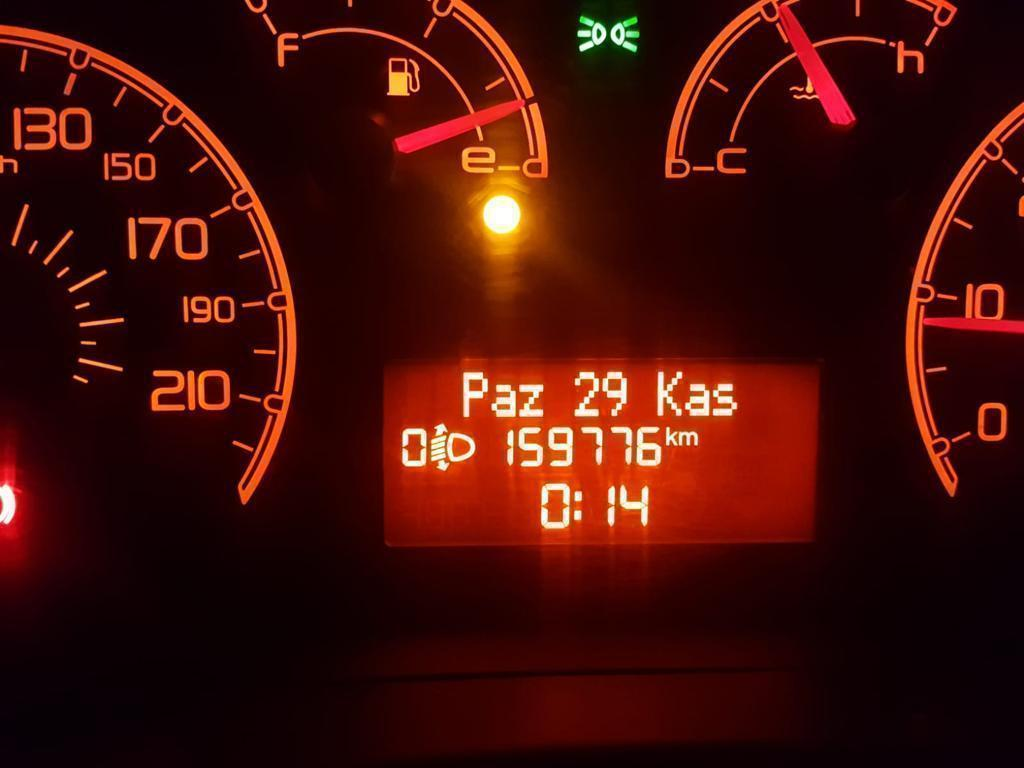0: (539, 480, 570, 530), (400, 426, 427, 467)
1: (605, 483, 617, 529), (504, 427, 516, 468)
2: (573, 369, 601, 419)
4: (619, 481, 649, 527)
5: (517, 425, 544, 469)
6: (636, 424, 662, 467)
7: (578, 423, 604, 466), (608, 423, 633, 465)
9: (602, 369, 630, 418), (546, 424, 575, 468)
X: (656, 367, 684, 417), (461, 369, 487, 418), (518, 381, 546, 418), (711, 383, 739, 417), (492, 381, 516, 418), (685, 382, 710, 416), (572, 486, 588, 525), (678, 429, 699, 448), (664, 424, 677, 448)
odometer: (375, 350, 826, 555)
